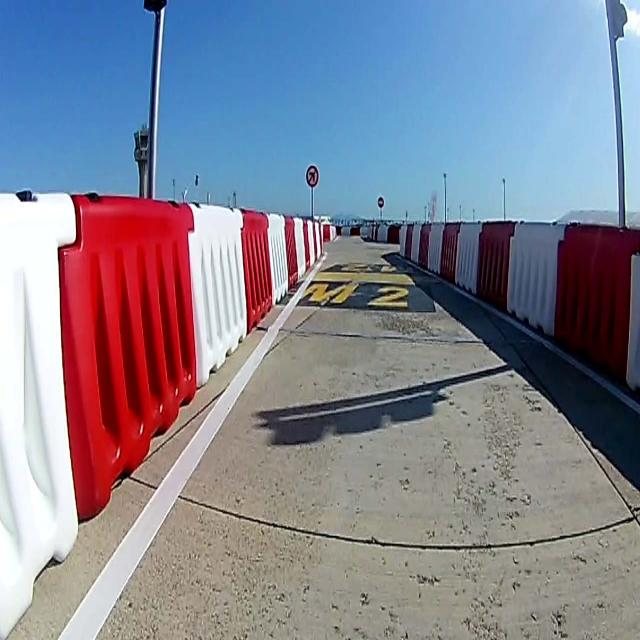girisyok: (378, 196, 384, 208)
soladonulmez: (306, 165, 318, 188)
